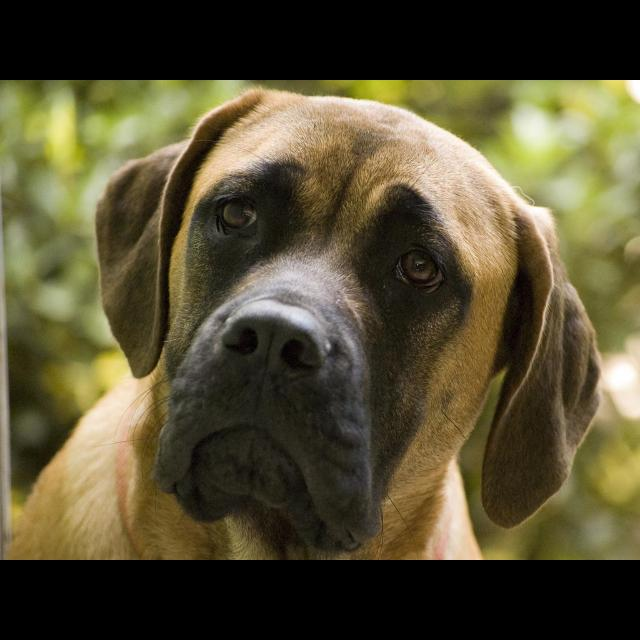mastiff: (7, 85, 603, 560)
